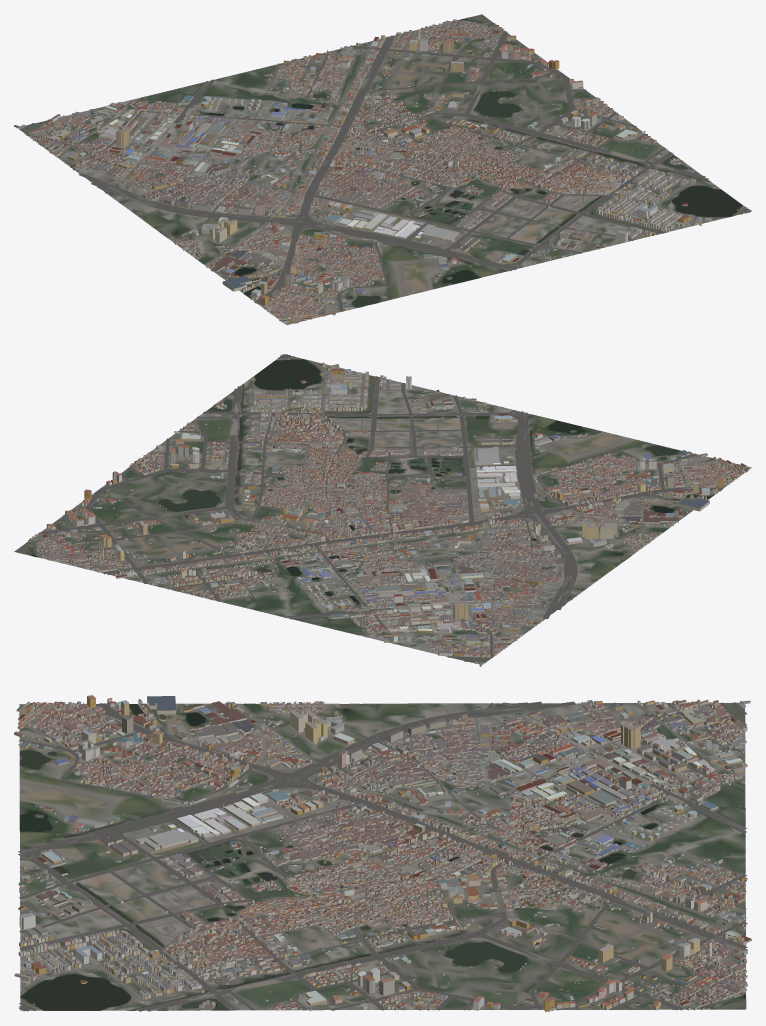
The picture shows the model from 3 angles, top to bottom: view 1: azimuth 30°, elevation 25°; view 2: azimuth 150°, elevation 25°; view 3: azimuth 270°, elevation 25°; orthographic projection. The views are drawn at different scales.
Parts seen in each view (by area): view 1: buildings, ground, roads, water; view 2: buildings, ground, roads, water; view 3: buildings, ground, roads, water.
Part boxes in pixels (bbox=[...]): buildings: bbox=[14, 19, 737, 323]; ground: bbox=[17, 14, 751, 324]; roads: bbox=[20, 14, 751, 315]; water: bbox=[160, 15, 742, 307]; buildings: bbox=[28, 359, 749, 666]; ground: bbox=[14, 354, 751, 664]; roads: bbox=[14, 354, 725, 662]; water: bbox=[18, 359, 713, 603]; buildings: bbox=[14, 695, 751, 1011]; ground: bbox=[19, 702, 746, 1010]; roads: bbox=[18, 701, 747, 1011]; water: bbox=[19, 703, 745, 1010].
Bounding box in the file's own units: 2849 × 90.67 × 2851.
